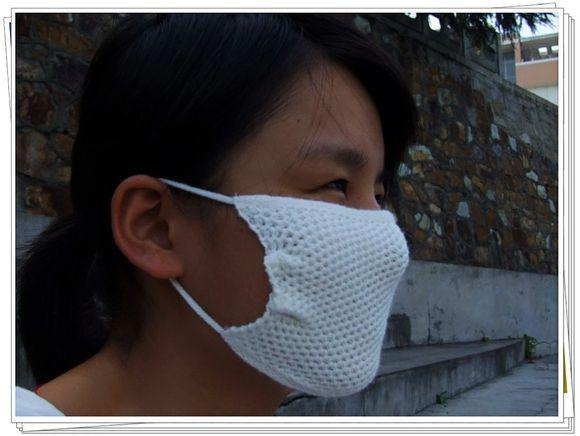WRONG: (178, 155, 421, 398)
